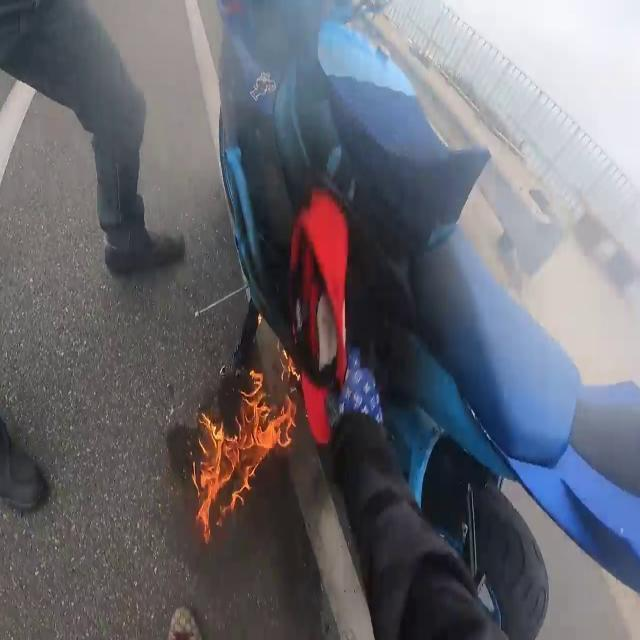Fire: (194, 360, 292, 538)
